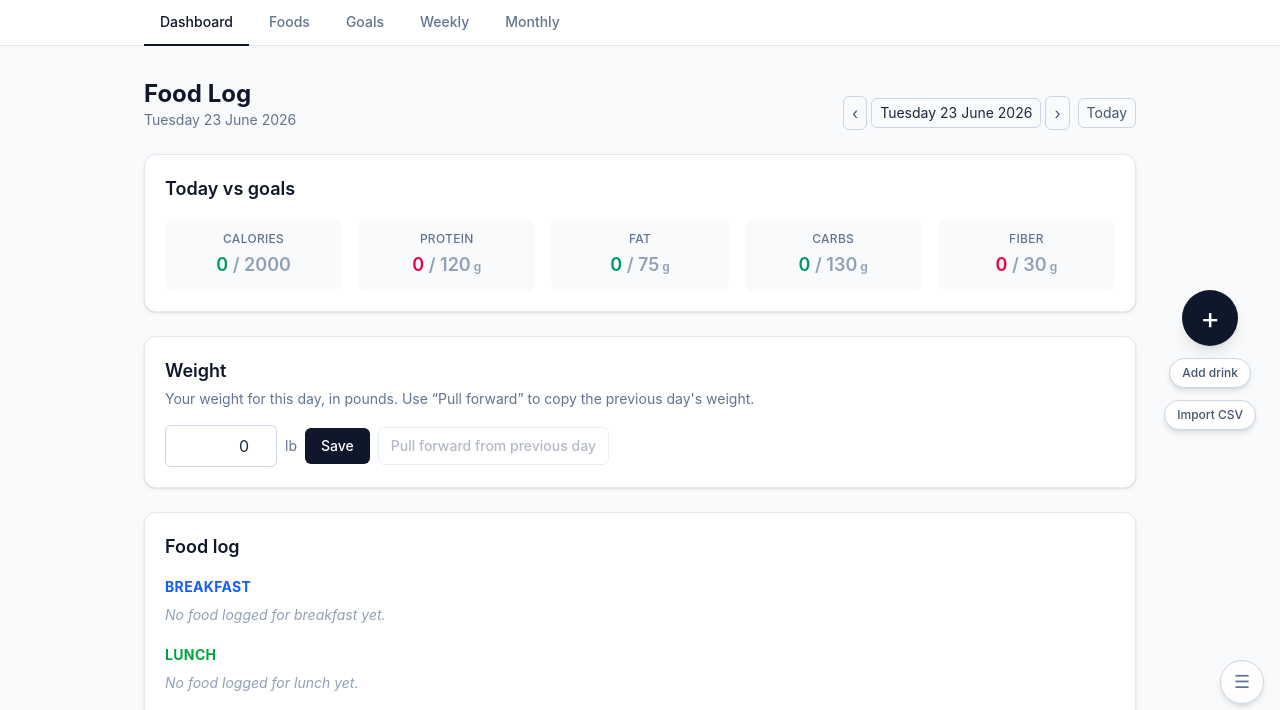
App tab navigation › switches to the Weekly report when the Weekly tab is clicked
Click the tab "Weekly".
click(445, 23)  # box left=404, top=0, right=485, bottom=46
(page scrolled)
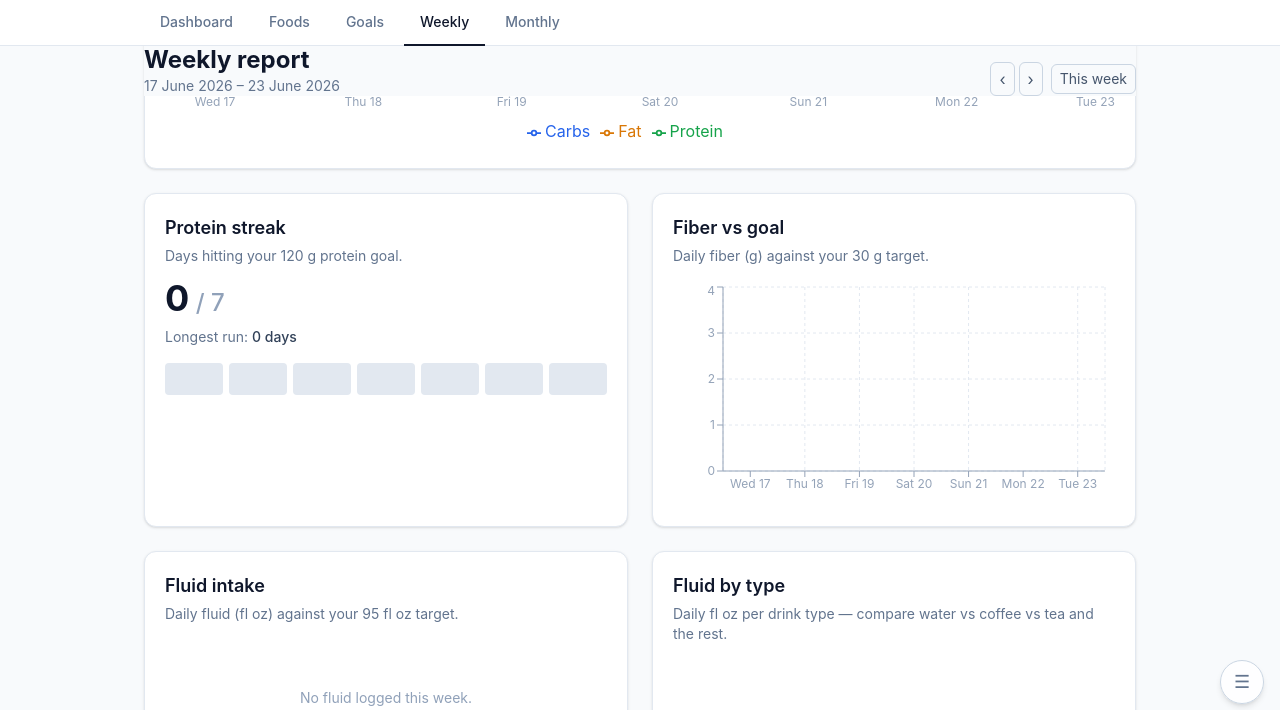
expect the heading "Weekly report" is shown: met, box left=144, top=45, right=310, bottom=74
expect the element "Protein streak" is shown: met, box left=144, top=193, right=628, bottom=527
